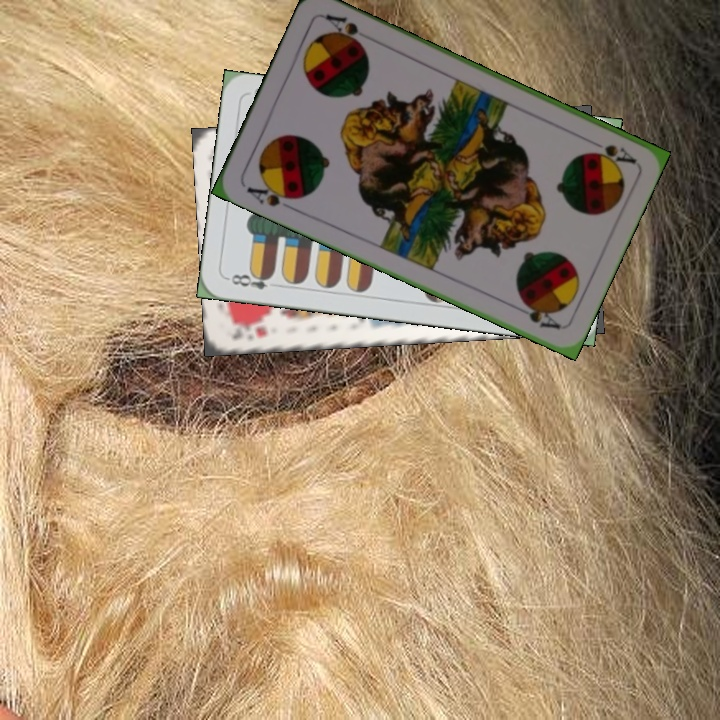E8: (224, 268, 276, 292)
HK: (228, 317, 269, 343)
SA: (242, 178, 301, 213), (587, 140, 638, 167)
